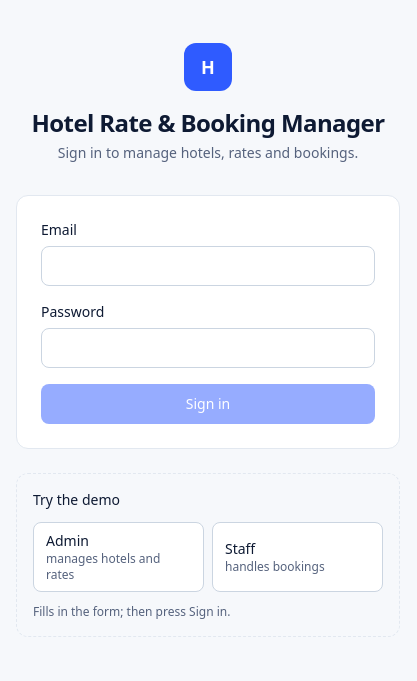
Test case: LoginPage › shows the server's message when the password is wrong
Type "staff@demo.dev" into the field labelled "Email" at (208, 266), box [41, 246, 375, 286]
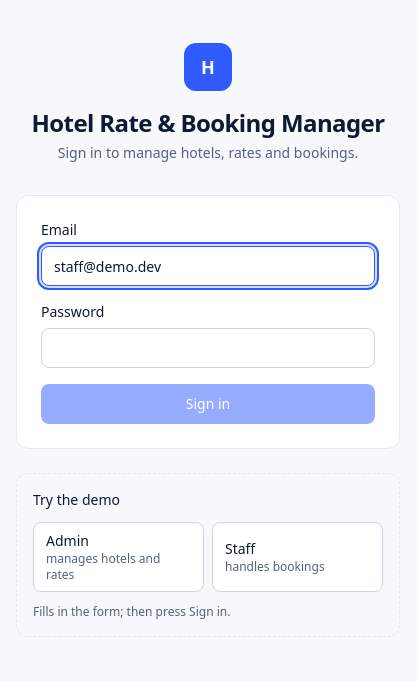
Type "nope" into the password field labelled "Password" at (208, 348), box [41, 328, 375, 368]
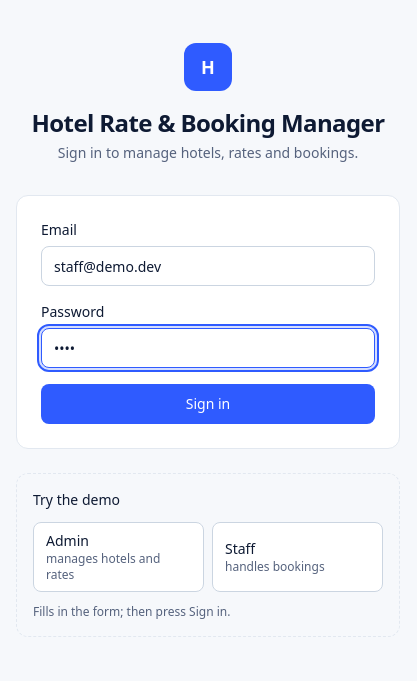
Click the button "Sign in" at (208, 404), box [41, 384, 375, 424]
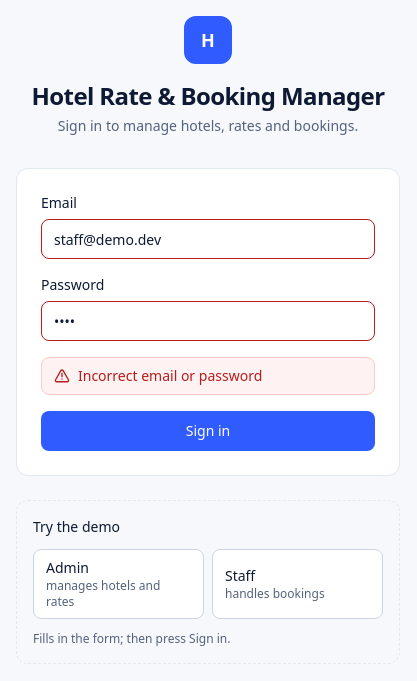
Check: the message reads "Incorrect email or password", box [78, 366, 262, 385]
